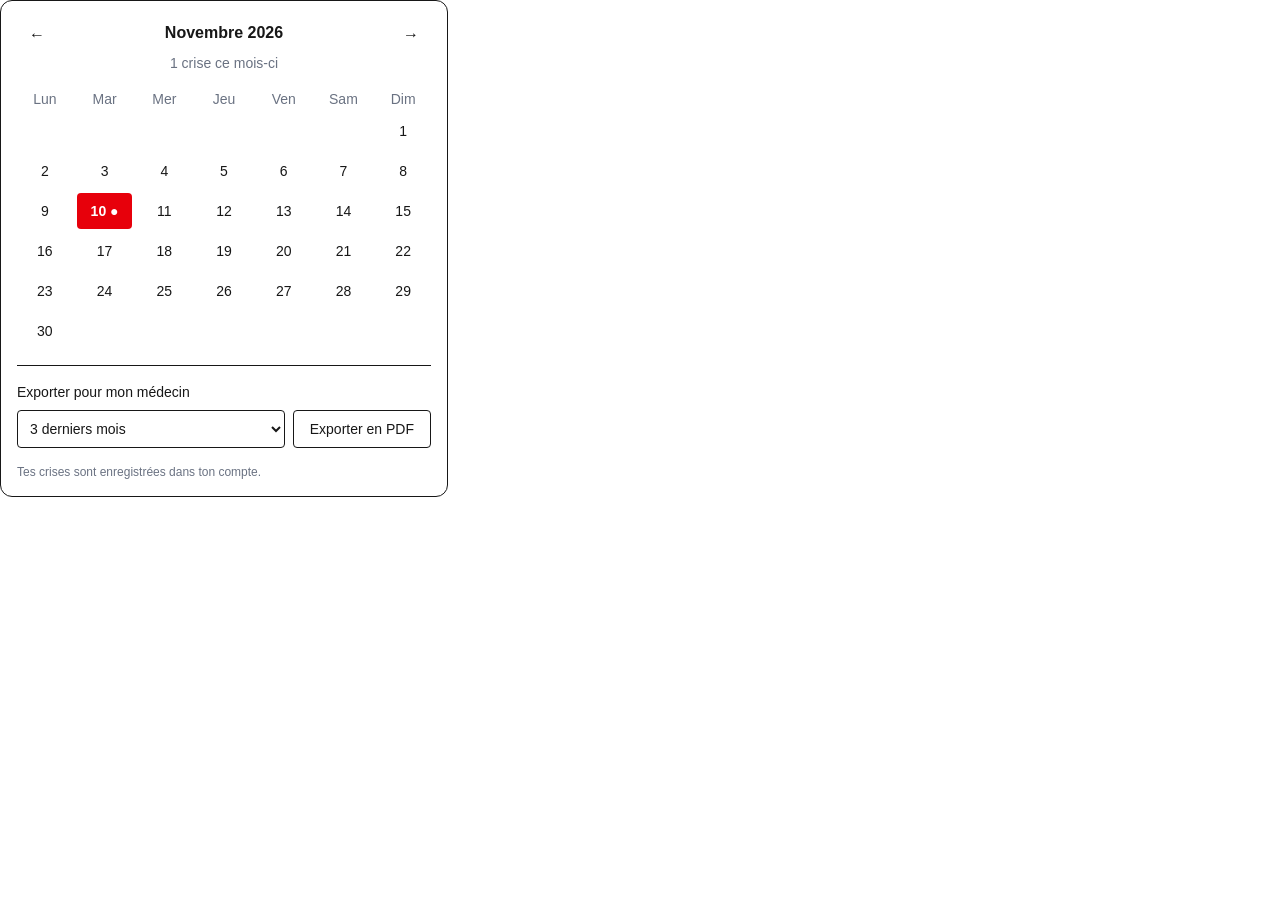
it: suppression d'une crise › demande confirmation sans supprimer tant qu'on n'a pas validé
The width and height of the screenshot is (1280, 900).
Click the button "10 ●" at (105, 211), box [77,193,132,229]
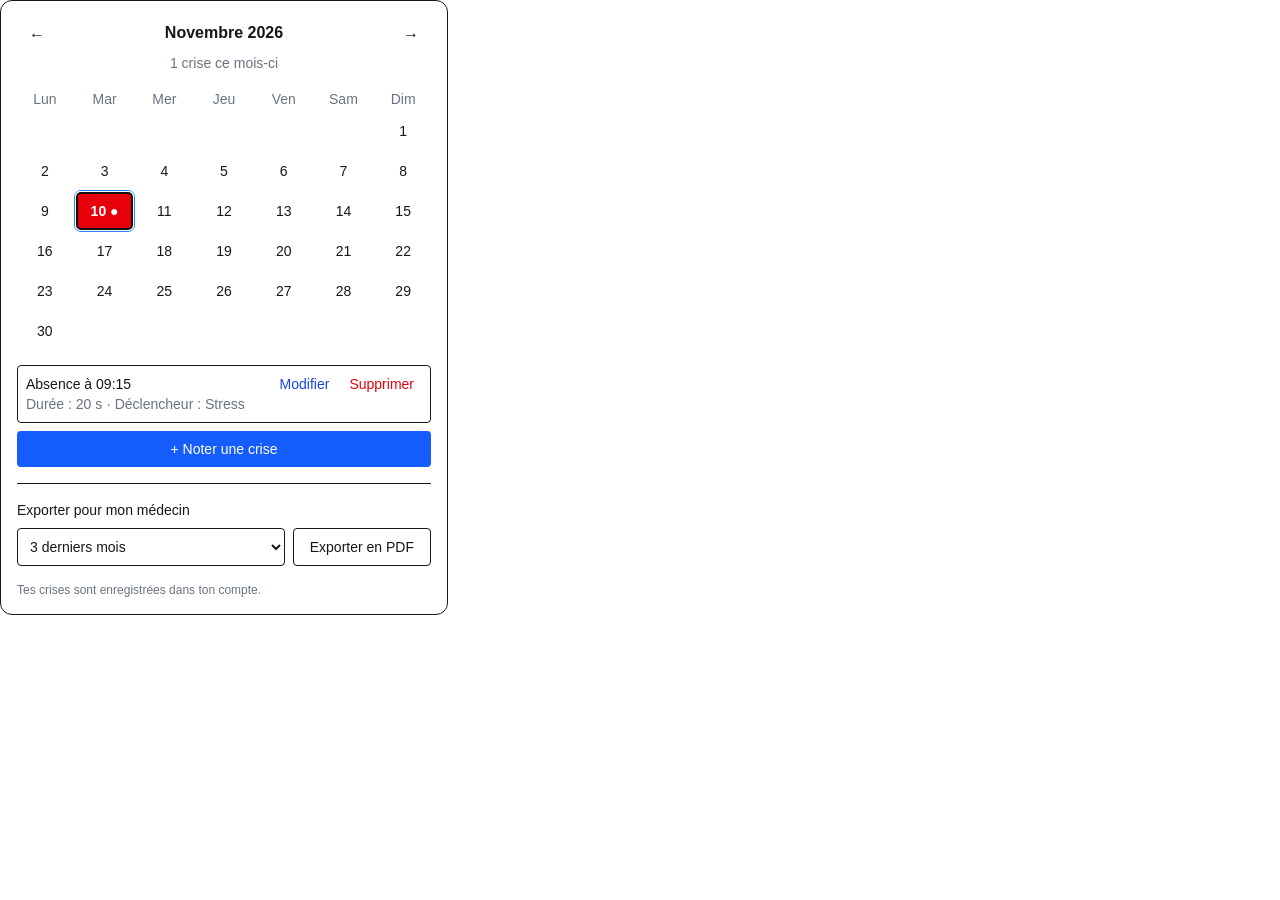
Click the button with aria-label "Supprimer cette crise" at (382, 384), box [341,374,422,394]
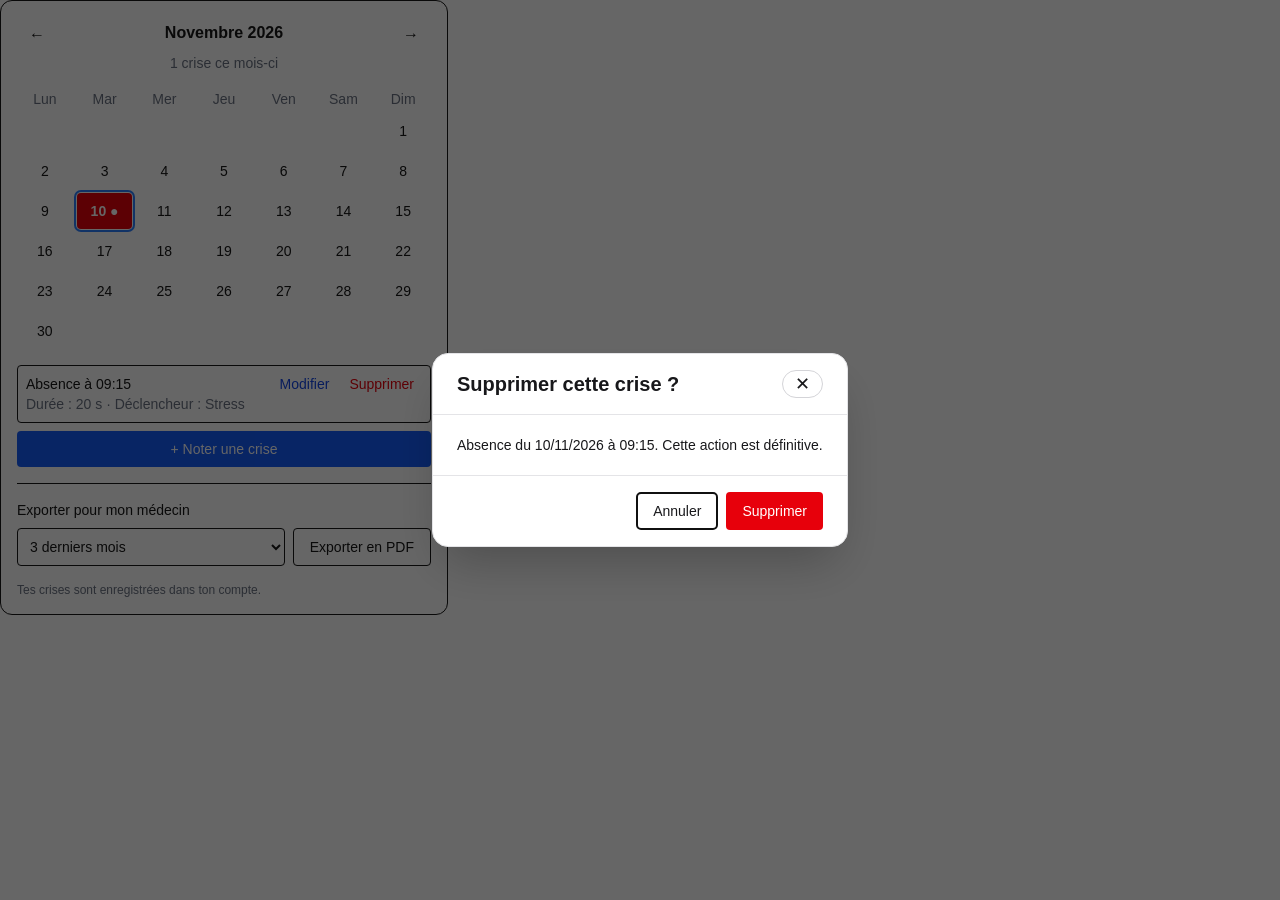
Check: the heading "Supprimer cette crise ?" is shown, box [457,370,679,398]
Check: the text "Absence du 10/11/2026 à 09:15. Cette action est définitive." is shown, box [457,435,823,455]
